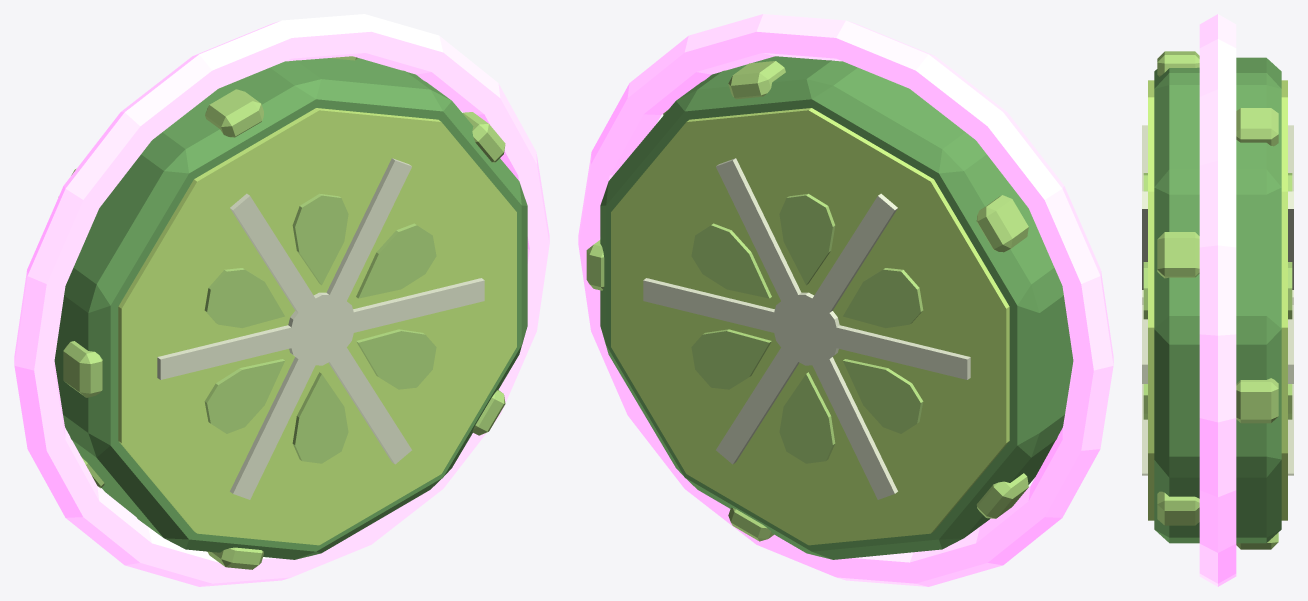
The model's file is NeonNeonSlice.fbx.
3 views of the same model, side by side, from view 1: azimuth 30°, elevation 25°; view 2: azimuth 150°, elevation 25°; view 3: azimuth 270°, elevation 25° (orthographic). The views are drawn at different scales.
Parts seen in each view (by area): view 1: NeonNeonSlice.Face, NeonNeonSlice.Halo, NeonNeonSlice.Rim, NeonNeonSlice.Studs, NeonNeonSlice.Spokes; view 2: NeonNeonSlice.Face, NeonNeonSlice.Halo, NeonNeonSlice.Rim, NeonNeonSlice.Studs, NeonNeonSlice.Spokes; view 3: NeonNeonSlice.Rim, NeonNeonSlice.Halo, NeonNeonSlice.Studs, NeonNeonSlice.Face, NeonNeonSlice.Spokes.
Boxes of the visible parts, x1=… form: NeonNeonSlice.Face: x1=118, y1=108, x2=516, y2=545; NeonNeonSlice.Halo: x1=14, y1=14, x2=549, y2=586; NeonNeonSlice.Rim: x1=54, y1=58, x2=527, y2=559; NeonNeonSlice.Studs: x1=63, y1=56, x2=505, y2=569; NeonNeonSlice.Spokes: x1=157, y1=158, x2=484, y2=499; NeonNeonSlice.Face: x1=611, y1=108, x2=1009, y2=545; NeonNeonSlice.Halo: x1=578, y1=14, x2=1113, y2=586; NeonNeonSlice.Rim: x1=600, y1=56, x2=1073, y2=559; NeonNeonSlice.Studs: x1=586, y1=61, x2=1028, y2=541; NeonNeonSlice.Spokes: x1=643, y1=158, x2=970, y2=499; NeonNeonSlice.Rim: x1=1154, y1=57, x2=1281, y2=543; NeonNeonSlice.Halo: x1=1199, y1=14, x2=1236, y2=586; NeonNeonSlice.Studs: x1=1143, y1=51, x2=1292, y2=549; NeonNeonSlice.Face: x1=1148, y1=80, x2=1287, y2=520; NeonNeonSlice.Spokes: x1=1142, y1=125, x2=1293, y2=475.
Bounding box in the file's own units: 1.9 × 1.9 × 0.5.
